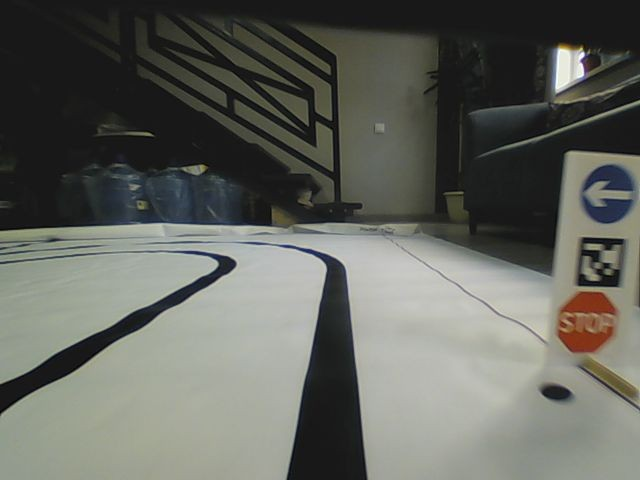Stop: (557, 291, 619, 357)
